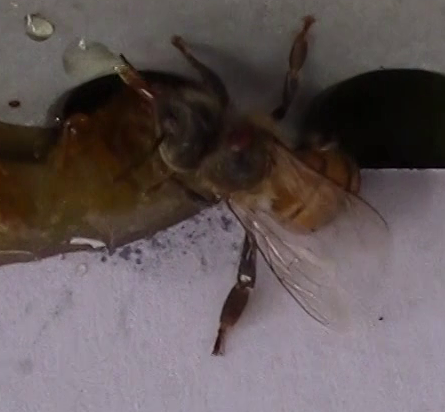Varroa destructor: (222, 124, 256, 152)
